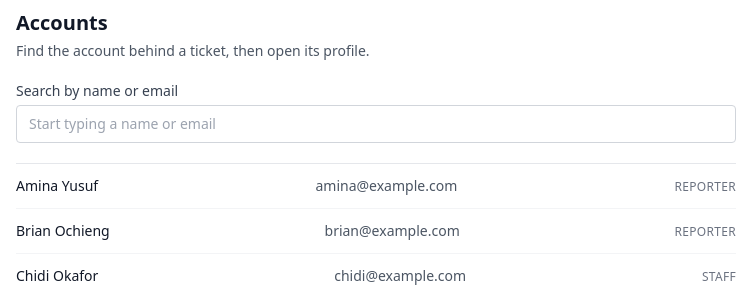
Test: AccountDirectoryPage › AD-004: names the term in a no-match state rather than showing an empty frame
Expected: the text "Amina Yusuf" is shown, [16, 176, 98, 196]
Type "dupont" into the field labelled "Search by name or email" at (376, 124), box [16, 105, 736, 143]
Wait 300 ms
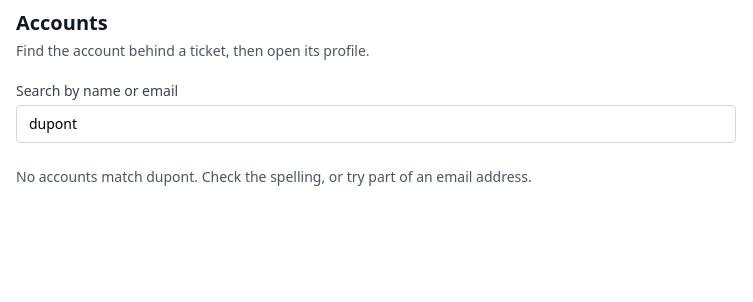
Result: the text "try part of an email address" is shown at [16, 167, 532, 186]
